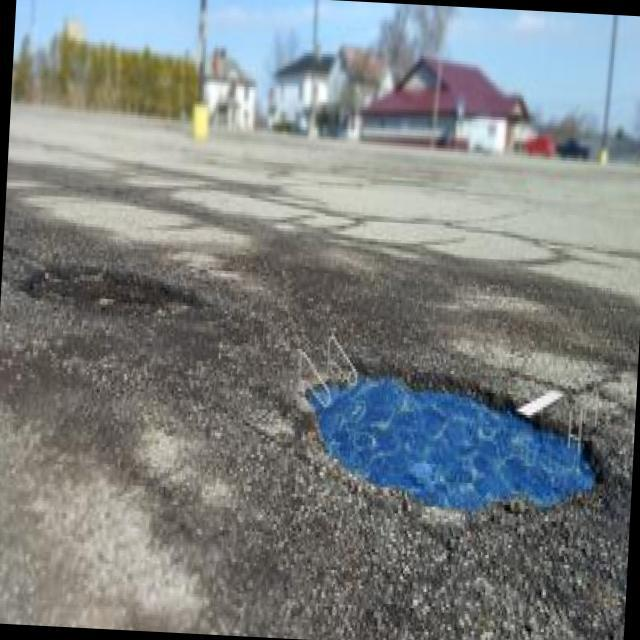Pothole: (297, 362, 607, 520), (22, 257, 198, 327)
